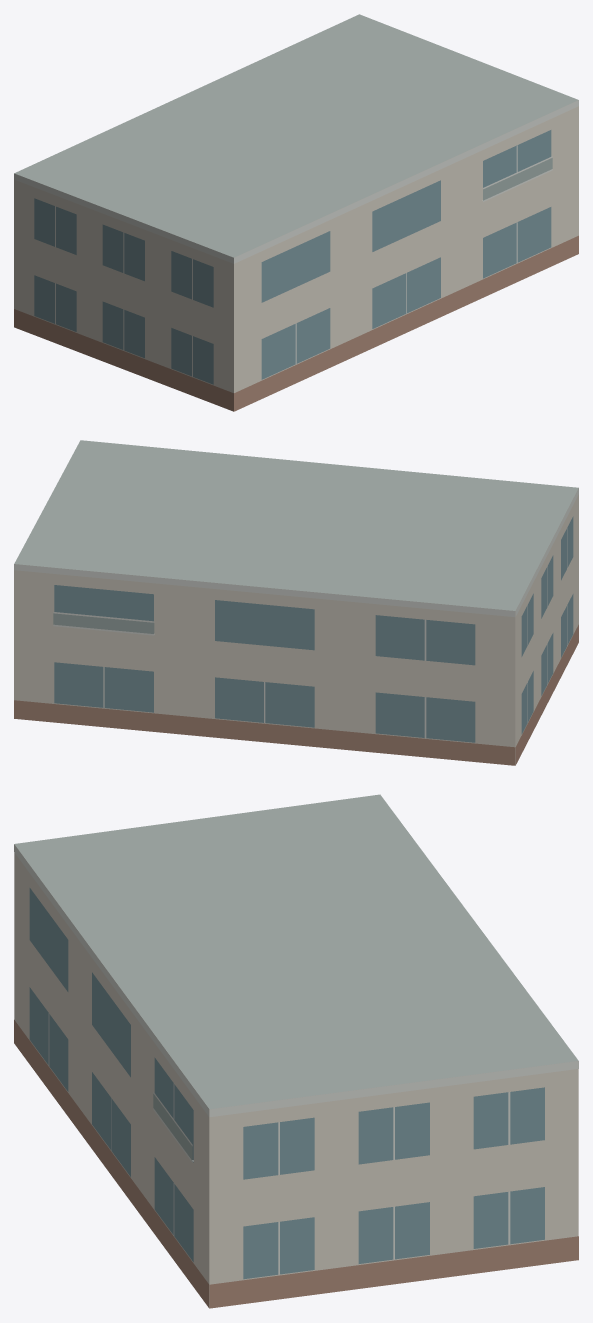
File: survey-upis-32604535.glb
3 renders of one model, top to bottom at view 1: azimuth 30°, elevation 25°; view 2: azimuth 150°, elevation 25°; view 3: azimuth 270°, elevation 25°, orthographic. The views are drawn at different scales.
Parts seen in each view (by area): view 1: survey-upis-32604535.tmp; view 2: survey-upis-32604535.tmp; view 3: survey-upis-32604535.tmp.
Boxes of the visible parts, left/top/right/bottom form: survey-upis-32604535.tmp: left=14, top=14, right=578, bottom=411; survey-upis-32604535.tmp: left=14, top=440, right=578, bottom=765; survey-upis-32604535.tmp: left=14, top=794, right=578, bottom=1308.
Size of the model in its own units: 20.69 by 6.1 by 15.68.
